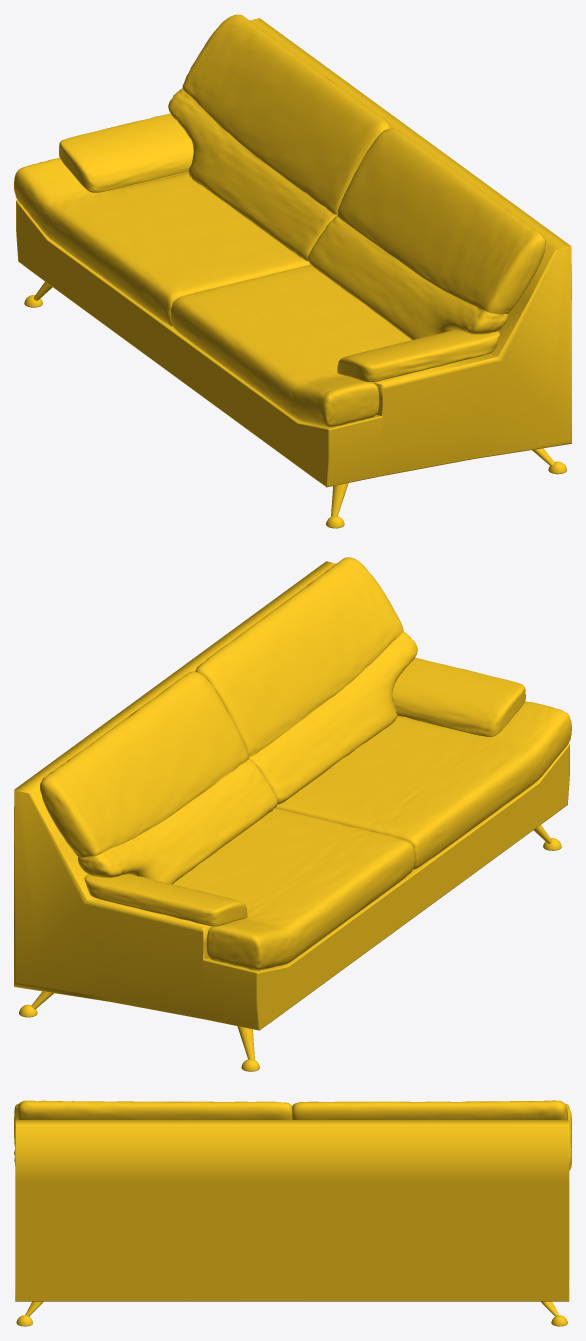
The model's file is sofa.glb.
The picture shows the model from 3 angles, top to bottom: view 1: azimuth 30°, elevation 25°; view 2: azimuth 150°, elevation 25°; view 3: azimuth 270°, elevation 25°; orthographic projection. The views are drawn at different scales.
Visible parts, largest first — view 1: node_id17, node_id8, node_id5, node_id20, node_id11; view 2: node_id17, node_id8, node_id5, node_id20, node_id11; view 3: node_id8, node_id17, node_id11.
Boxes of the visible parts, <box> form: node_id17: <box>168,14,545,339</box>; node_id8: <box>16,18,571,487</box>; node_id5: <box>14,158,411,427</box>; node_id20: <box>59,113,499,381</box>; node_id11: <box>24,282,566,527</box>; node_id17: <box>40,557,417,884</box>; node_id8: <box>14,561,569,1030</box>; node_id5: <box>173,701,571,970</box>; node_id20: <box>84,657,525,926</box>; node_id11: <box>19,825,561,1070</box>; node_id8: <box>15,1120,569,1301</box>; node_id17: <box>16,1100,568,1119</box>; node_id11: <box>16,1301,567,1325</box>.
Bounding box in the file's own units: 0.512 × 0.4763 × 1.13.
Materials: 6 (6 with a texture image).
